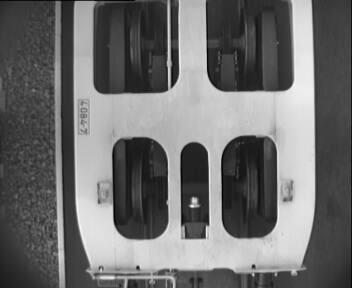twist_lock_2: (98, 126, 287, 248)
